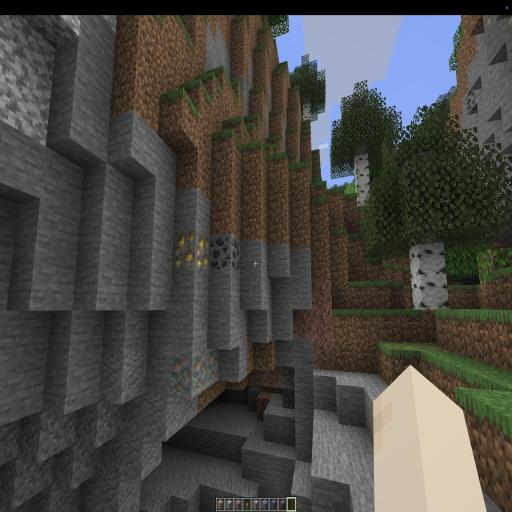coal ore: (209, 235, 241, 274)
gold ore: (173, 230, 210, 273)
